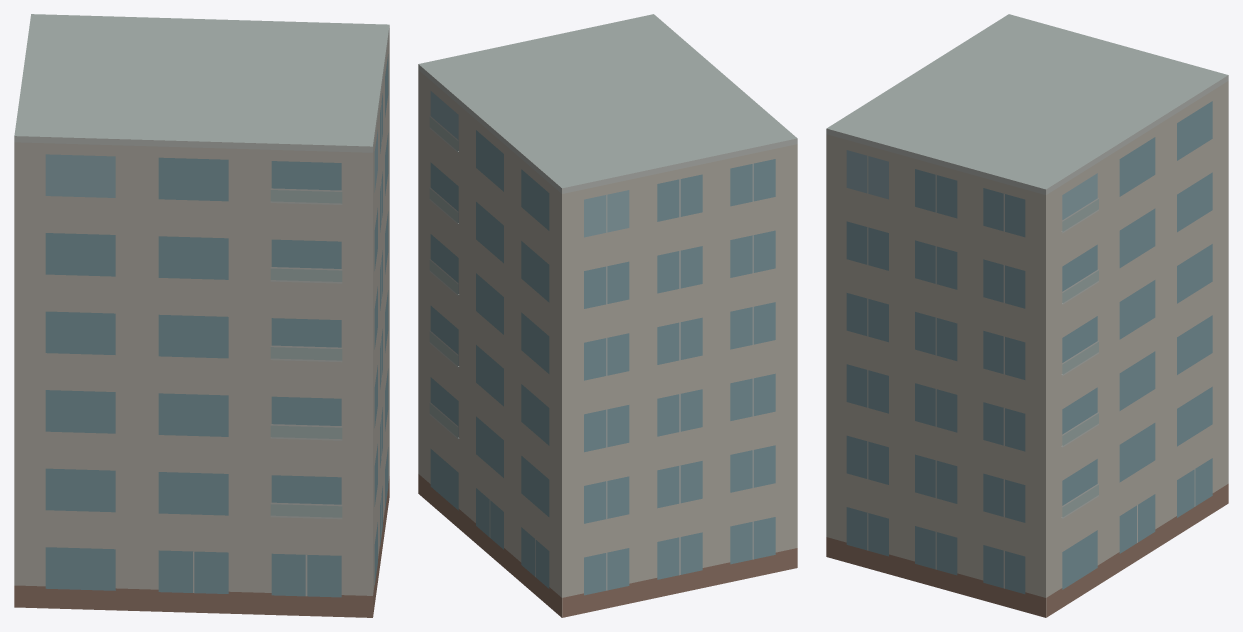
Rendered from survey-upis-32891174.glb.
The picture shows the model from 3 angles, left to right: view 1: azimuth 30°, elevation 25°; view 2: azimuth 150°, elevation 25°; view 3: azimuth 270°, elevation 25°; orthographic projection. The views are drawn at different scales.
Visible parts, largest first — view 1: survey-upis-32891174.tmp; view 2: survey-upis-32891174.tmp; view 3: survey-upis-32891174.tmp.
Boxes of the visible parts, x1,y1,x2,y2 form: survey-upis-32891174.tmp: [14, 14, 389, 617]; survey-upis-32891174.tmp: [418, 14, 797, 617]; survey-upis-32891174.tmp: [826, 14, 1228, 617].
Size of the model in its own units: 16.18 by 18.4 by 15.66.
